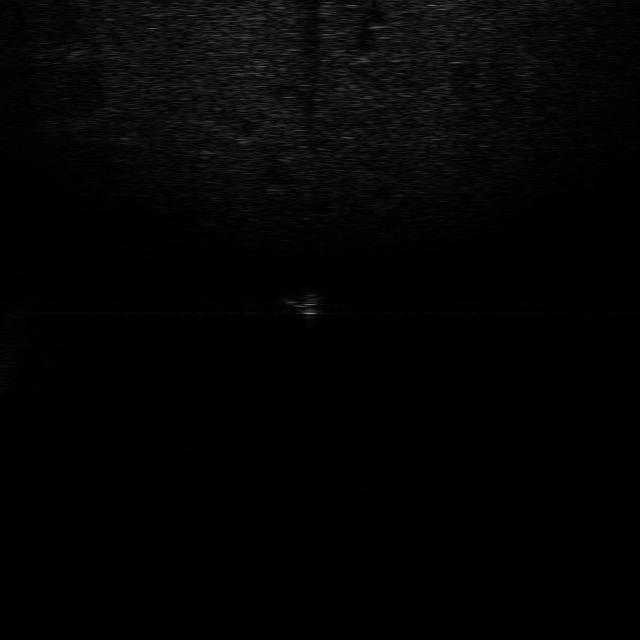human body: (279, 286, 325, 324)
